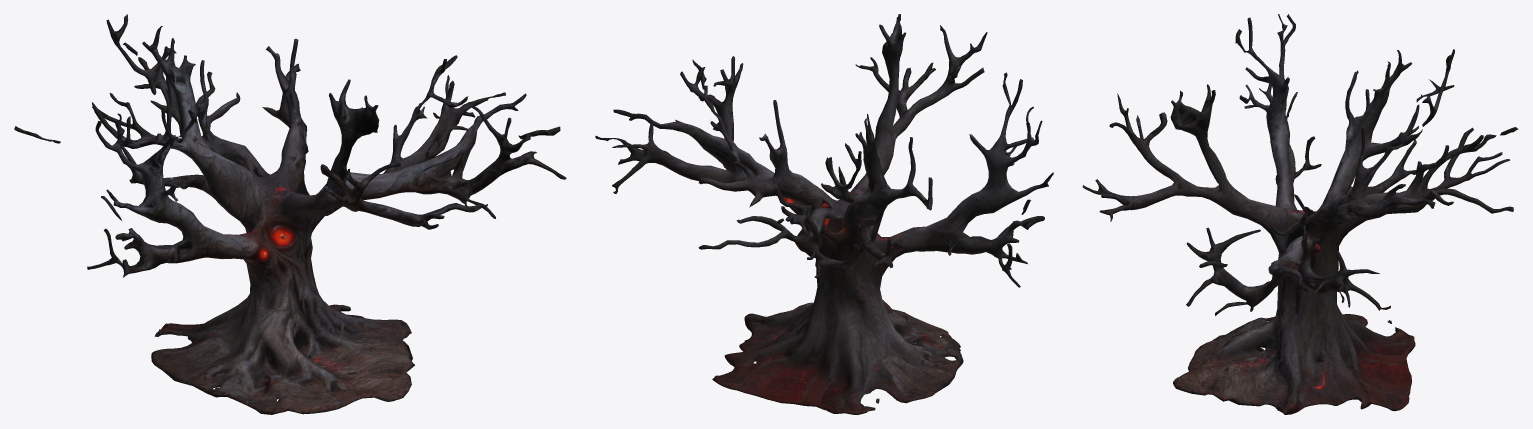
File: miedo arbol.fbx
3 views of the same model, side by side, from view 1: azimuth 30°, elevation 25°; view 2: azimuth 150°, elevation 25°; view 3: azimuth 270°, elevation 25° (orthographic). The views are drawn at different scales.
Parts seen in each view (by area): view 1: Object_4.002; view 2: Object_4.002; view 3: Object_4.002.
Part boxes in pixels (left/top/right/bottom): Object_4.002: left=14, top=14, right=566, bottom=414; Object_4.002: left=595, top=14, right=1053, bottom=414; Object_4.002: left=1082, top=14, right=1518, bottom=414.
Size of the model in its own units: 4083 by 2819 by 3835.
Materials: 1 (1 with a texture image).
